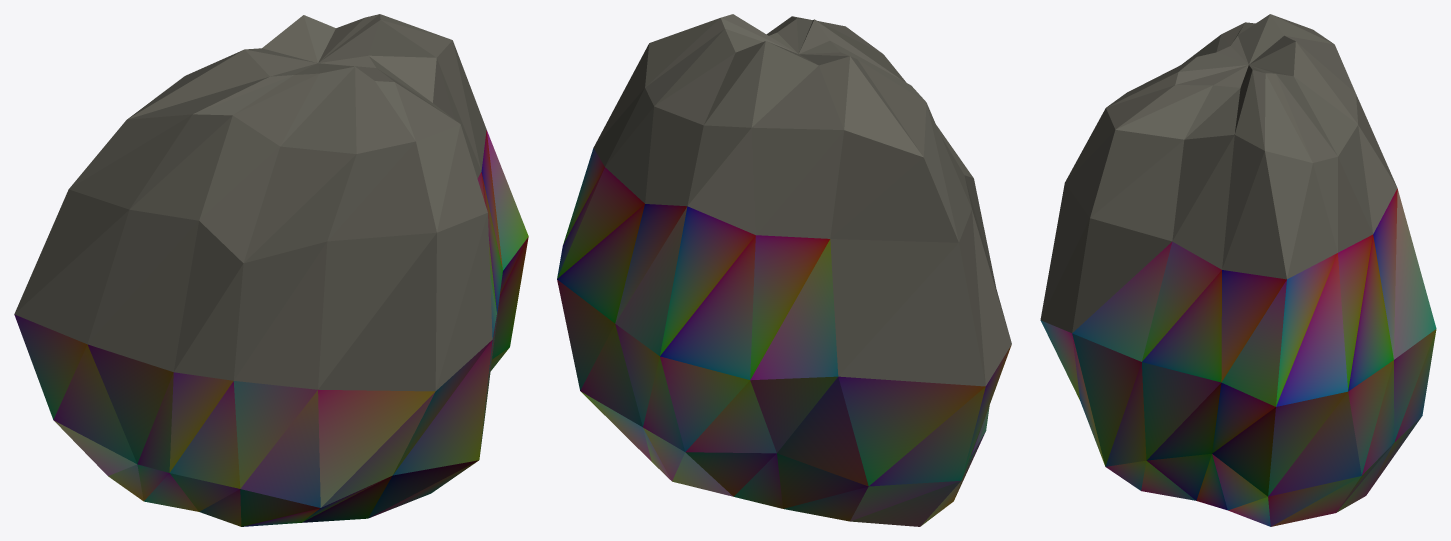
File: rock_05.glb
The picture shows the model from 3 angles, left to right: view 1: azimuth 30°, elevation 25°; view 2: azimuth 150°, elevation 25°; view 3: azimuth 270°, elevation 25°; orthographic projection.
Visible parts, largest first — view 1: rock_05; view 2: rock_05; view 3: rock_05.
Boxes of the visible parts, x1,y1,x2,y2 form: rock_05: (14, 14, 528, 526); rock_05: (557, 14, 1011, 526); rock_05: (1040, 14, 1436, 526).
Size of the model in its own units: 1.31 by 1.15 by 0.9681.
